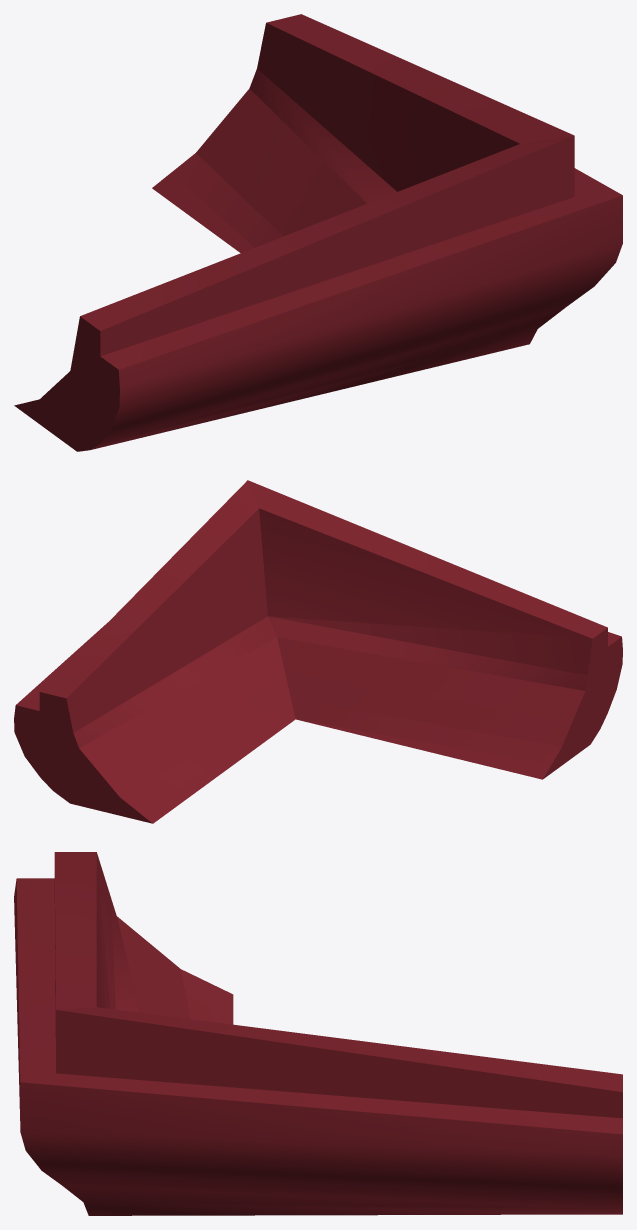
File: BRoofPannelCornerTrim_A.fbx
The picture shows the model from 3 angles, top to bottom: view 1: azimuth 30°, elevation 25°; view 2: azimuth 150°, elevation 25°; view 3: azimuth 270°, elevation 25°; orthographic projection. The views are drawn at different scales.
Parts seen in each view (by area): view 1: BRoofPannelCornerTrim_A; view 2: BRoofPannelCornerTrim_A; view 3: BRoofPannelCornerTrim_A.
Part boxes in pixels (box(x1,y1,x2,y2)): BRoofPannelCornerTrim_A: box(14, 14, 622, 451); BRoofPannelCornerTrim_A: box(14, 480, 622, 823); BRoofPannelCornerTrim_A: box(14, 852, 622, 1215).
Bounding box in the file's own units: 463 × 188 × 463.
